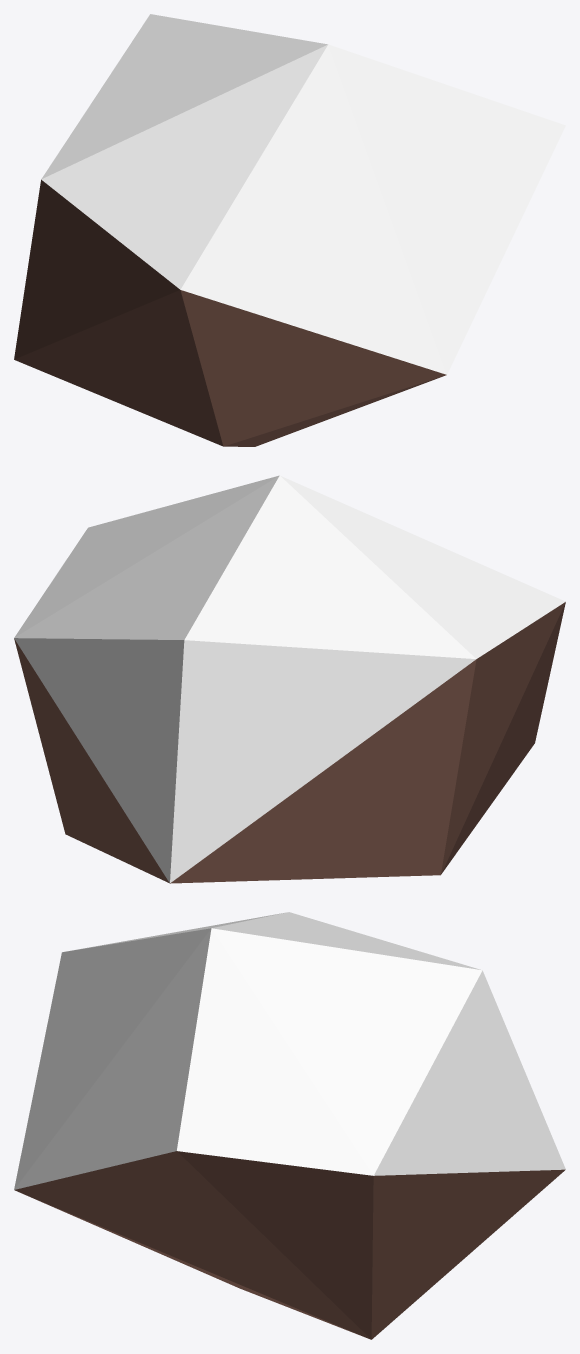
The model's file is snow_stone_001.fbx.
The picture shows the model from 3 angles, top to bottom: view 1: azimuth 30°, elevation 25°; view 2: azimuth 150°, elevation 25°; view 3: azimuth 270°, elevation 25°; orthographic projection. The views are drawn at different scales.
Parts seen in each view (by area): view 1: snow_stone_001; view 2: snow_stone_001; view 3: snow_stone_001.
Part boxes in pixels (x1=…): snow_stone_001: x1=14, y1=14, x2=565, y2=446; snow_stone_001: x1=14, y1=475, x2=565, y2=883; snow_stone_001: x1=14, y1=912, x2=565, y2=1339.
Bounding box in the file's own units: 43.5 × 45.74 × 35.49.
